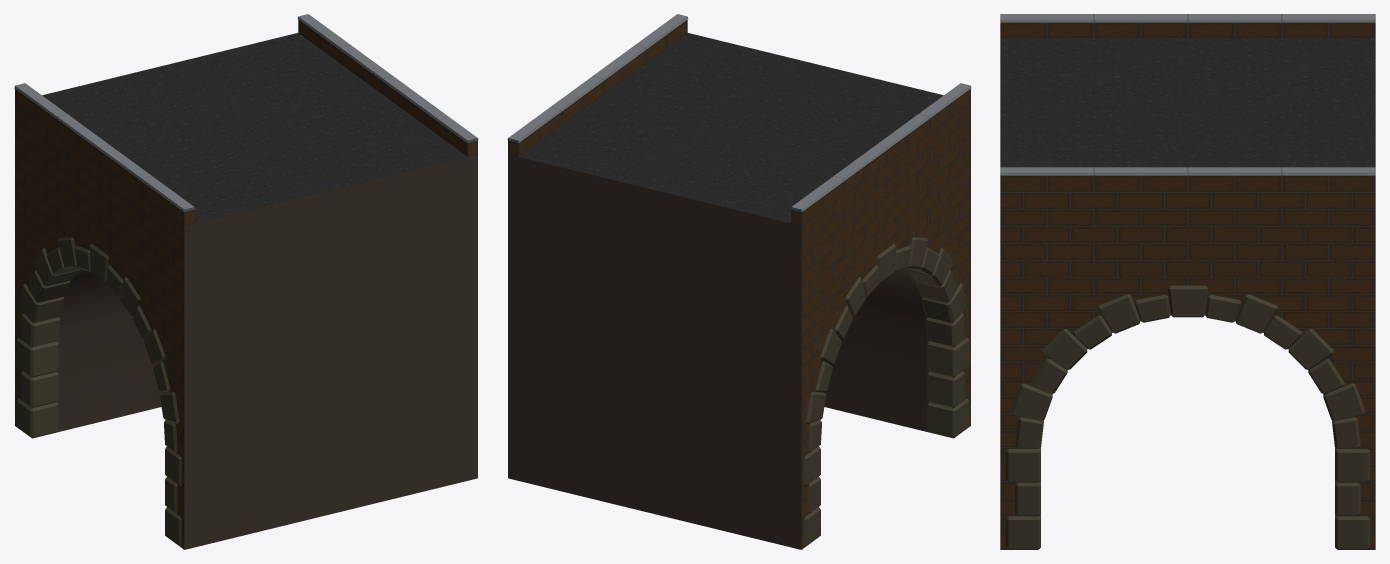
Rendered from SW_ENV_WalledStraight_DoubleTrack_Tall.fbx.
The picture shows the model from 3 angles, left to right: view 1: azimuth 30°, elevation 25°; view 2: azimuth 150°, elevation 25°; view 3: azimuth 270°, elevation 25°; orthographic projection. The views are drawn at different scales.
Visible parts, largest first — view 1: SW_ENV_WalledStraight_DoubleTrack_Tall; view 2: SW_ENV_WalledStraight_DoubleTrack_Tall; view 3: SW_ENV_WalledStraight_DoubleTrack_Tall.
Boxes of the visible parts, x1,y1,x2,y2 form: SW_ENV_WalledStraight_DoubleTrack_Tall: [14, 14, 478, 549]; SW_ENV_WalledStraight_DoubleTrack_Tall: [507, 14, 971, 549]; SW_ENV_WalledStraight_DoubleTrack_Tall: [1000, 14, 1375, 549].
Bounding box in the file's own units: 10.15 × 11.08 × 10.
